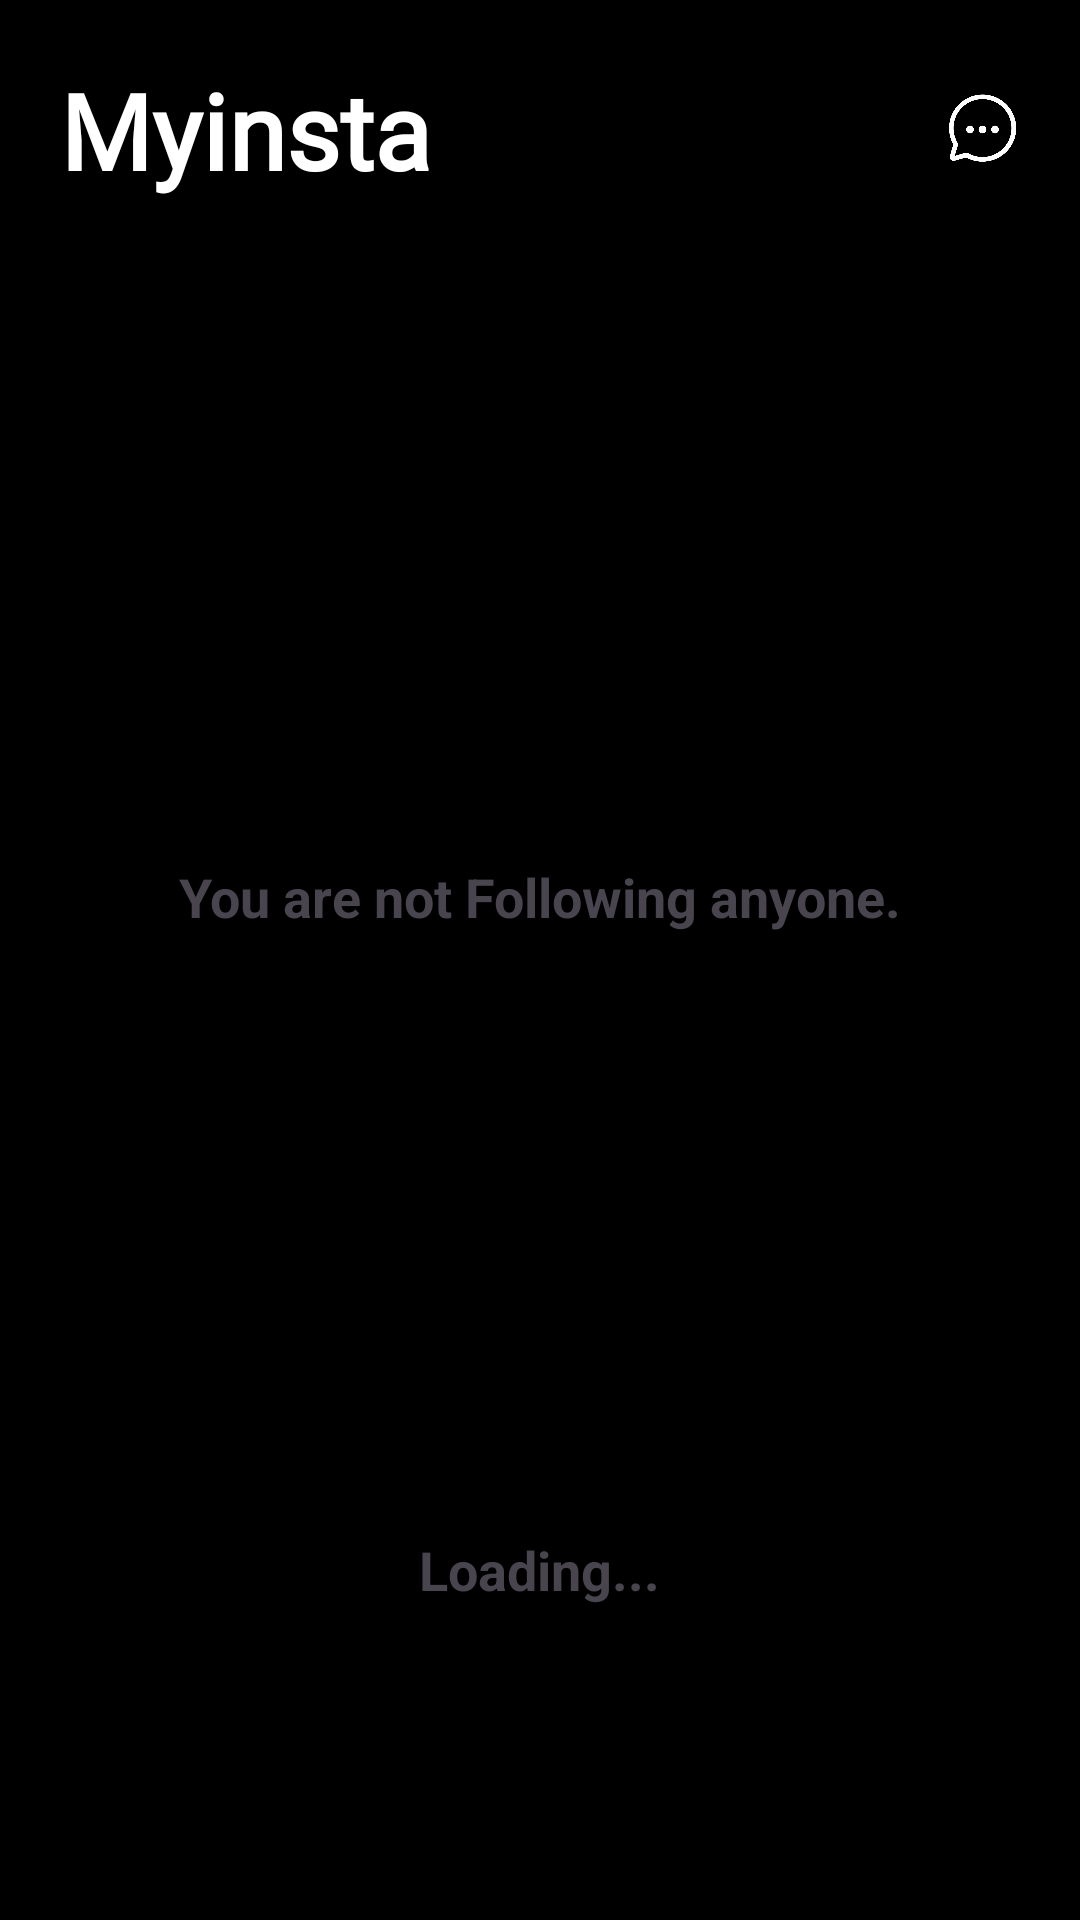

Where icons sit on this 1080*1920 app screen, as region(x1, y1, x2, y2):
chat: region(949, 94, 1016, 162)
